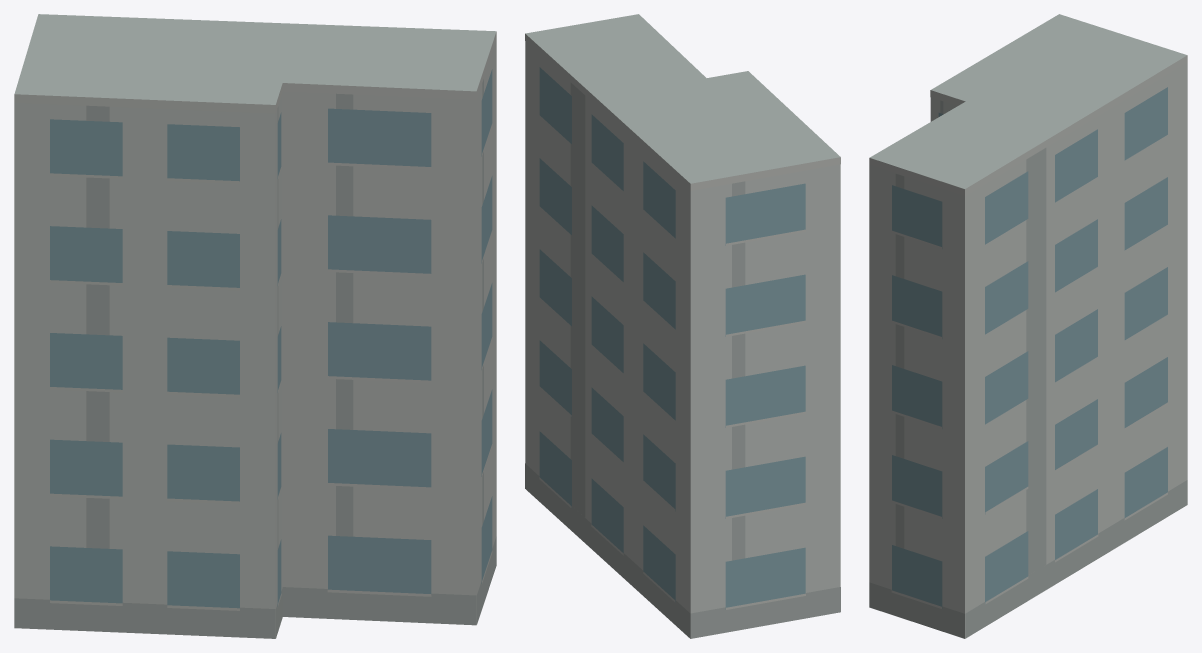
Rendered from survey-upis-32770820.glb.
The picture shows the model from 3 angles, left to right: view 1: azimuth 30°, elevation 25°; view 2: azimuth 150°, elevation 25°; view 3: azimuth 270°, elevation 25°; orthographic projection. The views are drawn at different scales.
Visible parts, largest first — view 1: survey-upis-32770820.tmp; view 2: survey-upis-32770820.tmp; view 3: survey-upis-32770820.tmp.
Part boxes in pixels (x1,y1,x2,y2): survey-upis-32770820.tmp: (14,14,496,638); survey-upis-32770820.tmp: (525,14,840,638); survey-upis-32770820.tmp: (869,14,1187,638).
Bounding box in the file's own units: 12.75 × 15.25 × 9.79.
